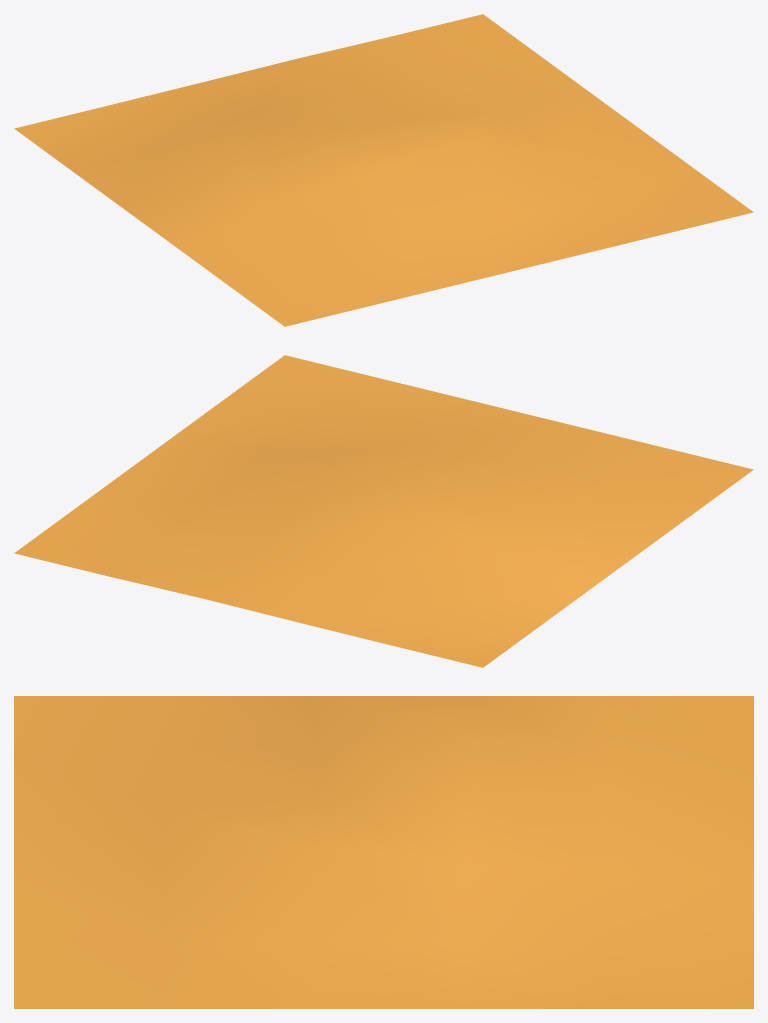
Rendered from Floor_O_Sand_01A.glb.
3 views of the same model, one above another, from view 1: azimuth 30°, elevation 25°; view 2: azimuth 150°, elevation 25°; view 3: azimuth 270°, elevation 25° (orthographic). The views are drawn at different scales.
Parts seen in each view (by area): view 1: Floor_O_Sand_01A; view 2: Floor_O_Sand_01A; view 3: Floor_O_Sand_01A.
Boxes of the visible parts, left/top/right/bottom form: Floor_O_Sand_01A: left=14, top=14, right=753, bottom=326; Floor_O_Sand_01A: left=14, top=355, right=753, bottom=667; Floor_O_Sand_01A: left=14, top=696, right=753, bottom=1008.
Size of the model in its own units: 4 by 0.2464 by 4.
Materials: 1 (1 with a texture image).
